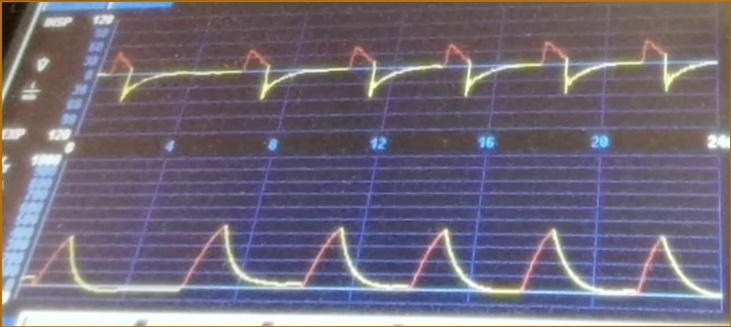Accumulation Flow: (112, 33, 697, 127)
Volume: (44, 218, 717, 307)
